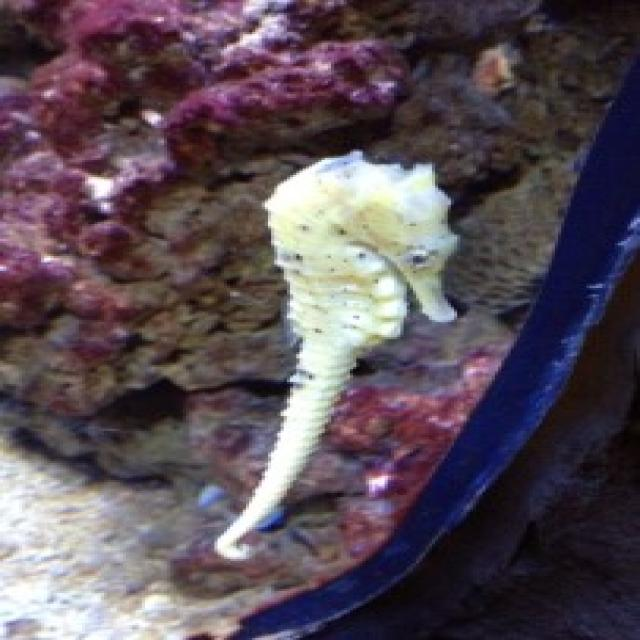Seahorse: (171, 152, 475, 566)
